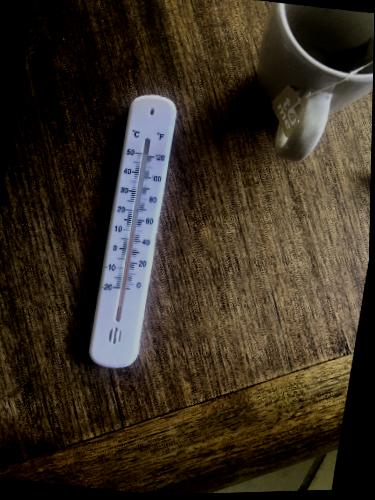thermo: (81, 89, 189, 374)
